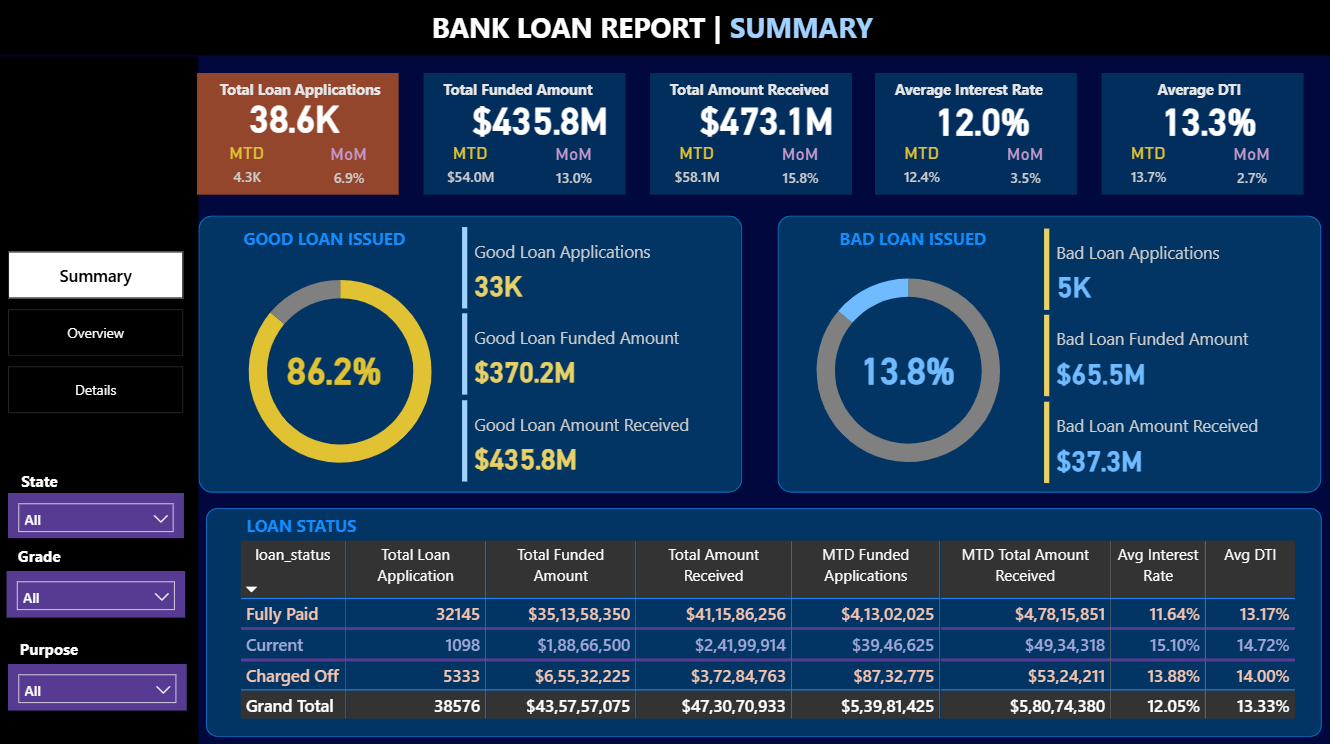

Layout of this report page (visuals, bound fields, positions):
{"tool":"powerbi","page":{"name":"Summary","canvas":[1280,720],"ordinal":0},"visuals":[{"type":"shape","box":[0,55.5,194.2,664.5],"z":0},{"type":"shape","box":[410.2,71.3,193.7,117],"z":0,"group":"g3"},{"type":"shape","box":[626.7,71.3,193.7,117],"z":0,"group":"g4"},{"type":"shape","box":[843.2,71.3,193.7,117],"z":0,"group":"g5"},{"type":"shape","box":[192.3,71.4,193.7,117],"z":0,"group":"g1"},{"type":"shape","box":[1059.7,71.9,193.7,117],"z":0,"group":"g6"},{"type":"card","fields":{"Values":["bank_loan_data.Total Loan Application"]},"box":[228.8,76.7,113.6,69.9],"z":1000,"group":"g1"},{"type":"card","fields":{"Values":["bank_loan_data.Total Funded Amount"]},"box":[447.1,82,147.9,64.6],"z":1000,"group":"g3"},{"type":"card","fields":{"Values":["bank_loan_data.Total Amount Received"]},"box":[663.6,82,147.9,64.6],"z":1000,"group":"g4"},{"type":"card","fields":{"Values":["bank_loan_data.Avg Interest Rate"]},"box":[872.1,82.5,147.9,64.6],"z":1000,"group":"g5"},{"type":"card","fields":{"Values":["bank_loan_data.Avg DTI"]},"box":[1088.6,83.1,147.9,64.6],"z":1000,"group":"g6"},{"type":"shape","box":[201.4,489.6,1069.7,219.5],"z":1000},{"type":"shape","box":[0,0,1280.3,55],"z":2000},{"type":"textbox","box":[204.7,71.3,197.8,40.3],"z":2000,"group":"g1"},{"type":"textbox","box":[420.9,71.3,197.8,40.3],"z":2000,"group":"g3"},{"type":"textbox","box":[637.4,71.3,197.8,40.3],"z":2000,"group":"g4"},{"type":"textbox","box":[853.9,71.3,197.8,40.3],"z":2000,"group":"g5"},{"type":"textbox","box":[1070.1,71.3,169.4,40.3],"z":2000,"group":"g6"},{"type":"textbox","box":[204.4,213.8,248.8,37.7],"z":2000,"group":"g7"},{"type":"textbox","box":[12.1,447.4,95.3,31.4],"z":2000,"group":"g9"},{"type":"textbox","box":[207.4,489.6,248.8,37.7],"z":2000,"group":"g8"},{"type":"card","title":"MTD","fields":{"Values":["bank_loan_data.MTD Loan Applications"]},"box":[204.7,137.2,69.5,51.1],"z":3000,"group":"g1"},{"type":"card","title":"MTD","fields":{"Values":["bank_loan_data.MTD Funded Applications"]},"box":[420.9,137.2,69.5,51.1],"z":3000,"group":"g3"},{"type":"card","title":"MTD","fields":{"Values":["bank_loan_data.MTD Total Amount Received"]},"box":[637.4,137.2,69.5,51.1],"z":3000,"group":"g4"},{"type":"card","title":"MTD","fields":{"Values":["bank_loan_data.MTD Average Interest Rate"]},"box":[853.9,137.2,69.5,51.1],"z":3000,"group":"g5"},{"type":"card","title":"MTD","fields":{"Values":["bank_loan_data.MTD Average DTI"]},"box":[1070.4,137.8,69.5,51.1],"z":3000,"group":"g6"},{"type":"textbox","box":[12.1,517.4,83.2,31.4],"z":3000},{"type":"group","id":"g1","title":"Group 2","box":[192.3,71.3,210.2,117.1],"z":3005,"group":"g2"},{"type":"card","title":"MoM","fields":{"Values":["bank_loan_data.MoM Loan Applications"]},"box":[303,138.2,69.5,49.8],"z":4000,"group":"g1"},{"type":"card","title":"MoM","fields":{"Values":["bank_loan_data.MoM Total Funded Amount"]},"box":[519.1,138.2,69.5,49.8],"z":4000,"group":"g3"},{"type":"card","title":"MoM","fields":{"Values":["bank_loan_data.MoM Total Amount Received"]},"box":[735.6,138.2,69.5,49.8],"z":4000,"group":"g4"},{"type":"card","title":"MoM","fields":{"Values":["bank_loan_data.MoM Average Interest Rate"]},"box":[952.1,138.2,69.5,49.8],"z":4000,"group":"g5"},{"type":"card","title":"MoM","fields":{"Values":["bank_loan_data.MoM Average DTI"]},"box":[1168.6,138.9,69.5,49.8],"z":4000,"group":"g6"},{"type":"textbox","box":[9.6,607.8,117,31.4],"z":4000},{"type":"shape","box":[748.6,208.6,521.4,265.7],"z":5000},{"type":"shape","box":[194.3,208.6,521.4,265.7],"z":6000},{"type":"textbox","box":[784,213.8,203.1,37.7],"z":7000},{"type":"card","fields":{"Values":["bank_loan_data.Good Loan %"]},"box":[262.2,322.8,123.7,64.6],"z":8000},{"type":"textbox","box":[412.9,4,520.4,45.7],"z":9000},{"type":"group","id":"g2","title":"Group 1","box":[192.3,71.3,210.2,117.1],"z":10000},{"type":"group","id":"g3","title":"Group 2","box":[410.2,71.3,208.4,117],"z":11000},{"type":"group","id":"g4","title":"Group 2","box":[626.7,71.3,208.4,117],"z":12000},{"type":"group","id":"g5","title":"Group 2","box":[843.2,71.3,208.4,117],"z":13000},{"type":"group","id":"g6","title":"Group 2","box":[1059.7,71.3,193.7,117],"z":14000},{"type":"donutChart","fields":{"Category":["bank_loan_data.Good Vs Bad Loan"],"Y":["bank_loan_data.Total Loan Application"]},"box":[203.8,242.4,250.9,229.1],"z":15000},{"type":"group","id":"g7","title":"Group 2","box":[204.4,213.8,248.8,37.7],"z":16000},{"type":"cardVisual","fields":{"Data":["bank_loan_data.Good Loan Applications","bank_loan_data.Good Loan Funded Amount","bank_loan_data.Good Loan Amount Received"]},"box":[441.1,213.8,266.3,256.9],"z":17000},{"type":"donutChart","fields":{"Category":["bank_loan_data.Good Vs Bad Loan"],"Y":["bank_loan_data.Total Loan Application"]},"box":[749.1,242.1,250.1,230],"z":18000},{"type":"card","fields":{"Values":["bank_loan_data.Bad Loan %"]},"box":[810.9,322.8,125.1,64.6],"z":19000},{"type":"cardVisual","fields":{"Data":["bank_loan_data.Bad Loan Applications","bank_loan_data.Bad Loan Funded Amount","bank_loan_data.Bad Loan Amount Received"]},"box":[999.2,215.2,266.3,256.9],"z":20000},{"type":"tableEx","fields":{"Values":["bank_loan_data.loan_status","bank_loan_data.Total Loan Application","bank_loan_data.Total Funded Amount","bank_loan_data.Total Amount Received","bank_loan_data.MTD Funded Applications","bank_loan_data.MTD Total Amount Received","bank_loan_data.Avg Interest Rate","bank_loan_data.Avg DTI"]},"box":[229.1,515,1025.1,194.2],"z":21000},{"type":"group","id":"g8","title":"Group 2","box":[207.4,489.6,248.4,37.4],"z":22000},{"type":"slicer","fields":{"Values":["bank_loan_data.address_state"]},"box":[12.1,474,168.8,43.4],"z":23000},{"type":"slicer","fields":{"Values":["bank_loan_data.grade"]},"box":[9.6,548.7,171.3,44.6],"z":24000},{"type":"slicer","fields":{"Values":["bank_loan_data.purpose"]},"box":[12.1,639.2,171.3,44.6],"z":25000},{"type":"group","id":"g9","title":"Group 2","box":[12.1,447.4,95.3,31.4],"z":26000},{"type":"pageNavigator","box":[12.1,242.4,168.8,158],"z":27000}]}

Visuals, with their boxes in screenshot pixels (x1, y1, x2, y2), scaled from the page's 1280x720 canvas onto the 1330x744 screenshot:
shape: BBox(0, 57, 202, 743)
shape: BBox(426, 74, 627, 195)
shape: BBox(651, 74, 852, 195)
shape: BBox(876, 74, 1077, 195)
shape: BBox(200, 74, 401, 195)
shape: BBox(1101, 74, 1302, 195)
card - bank_loan_data.Total Loan Application: BBox(238, 79, 356, 151)
card - bank_loan_data.Total Funded Amount: BBox(465, 85, 618, 151)
card - bank_loan_data.Total Amount Received: BBox(690, 85, 843, 151)
card - bank_loan_data.Avg Interest Rate: BBox(906, 85, 1060, 152)
card - bank_loan_data.Avg DTI: BBox(1131, 86, 1285, 153)
shape: BBox(209, 506, 1321, 733)
shape: BBox(0, 0, 1329, 57)
textbox: BBox(213, 74, 418, 115)
textbox: BBox(437, 74, 643, 115)
textbox: BBox(662, 74, 868, 115)
textbox: BBox(887, 74, 1093, 115)
textbox: BBox(1112, 74, 1288, 115)
textbox: BBox(212, 221, 471, 260)
textbox: BBox(13, 462, 112, 495)
textbox: BBox(216, 506, 474, 545)
"MTD" card: BBox(213, 142, 285, 195)
"MTD" card: BBox(437, 142, 510, 195)
"MTD" card: BBox(662, 142, 735, 195)
"MTD" card: BBox(887, 142, 959, 195)
"MTD" card: BBox(1112, 142, 1184, 195)
textbox: BBox(13, 535, 99, 567)
"Group 2" group: BBox(200, 74, 418, 195)
"MoM" card: BBox(315, 143, 387, 194)
"MoM" card: BBox(539, 143, 612, 194)
"MoM" card: BBox(764, 143, 837, 194)
"MoM" card: BBox(989, 143, 1062, 194)
"MoM" card: BBox(1214, 144, 1286, 195)
textbox: BBox(10, 628, 132, 661)
shape: BBox(778, 216, 1320, 490)
shape: BBox(202, 216, 744, 490)
textbox: BBox(815, 221, 1026, 260)
card - bank_loan_data.Good Loan %: BBox(272, 334, 401, 400)
textbox: BBox(429, 4, 970, 51)
"Group 1" group: BBox(200, 74, 418, 195)
"Group 2" group: BBox(426, 74, 643, 195)
"Group 2" group: BBox(651, 74, 868, 195)
"Group 2" group: BBox(876, 74, 1093, 195)
"Group 2" group: BBox(1101, 74, 1302, 195)
donutChart - bank_loan_data.Good Vs Bad Loan x bank_loan_data.Total Loan Application: BBox(212, 250, 472, 487)
"Group 2" group: BBox(212, 221, 471, 260)
cardVisual - bank_loan_data.Good Loan Applications x bank_loan_data.Good Loan Funded Amount: BBox(458, 221, 735, 486)
donutChart - bank_loan_data.Good Vs Bad Loan x bank_loan_data.Total Loan Application: BBox(778, 250, 1038, 488)
card - bank_loan_data.Bad Loan %: BBox(843, 334, 973, 400)
cardVisual - bank_loan_data.Bad Loan Applications x bank_loan_data.Bad Loan Funded Amount: BBox(1038, 222, 1315, 488)
tableEx - bank_loan_data.loan_status x bank_loan_data.Total Loan Application: BBox(238, 532, 1303, 733)
"Group 2" group: BBox(216, 506, 474, 545)
slicer - bank_loan_data.address_state: BBox(13, 490, 188, 535)
slicer - bank_loan_data.grade: BBox(10, 567, 188, 613)
slicer - bank_loan_data.purpose: BBox(13, 661, 191, 707)
"Group 2" group: BBox(13, 462, 112, 495)
pageNavigator: BBox(13, 250, 188, 414)
